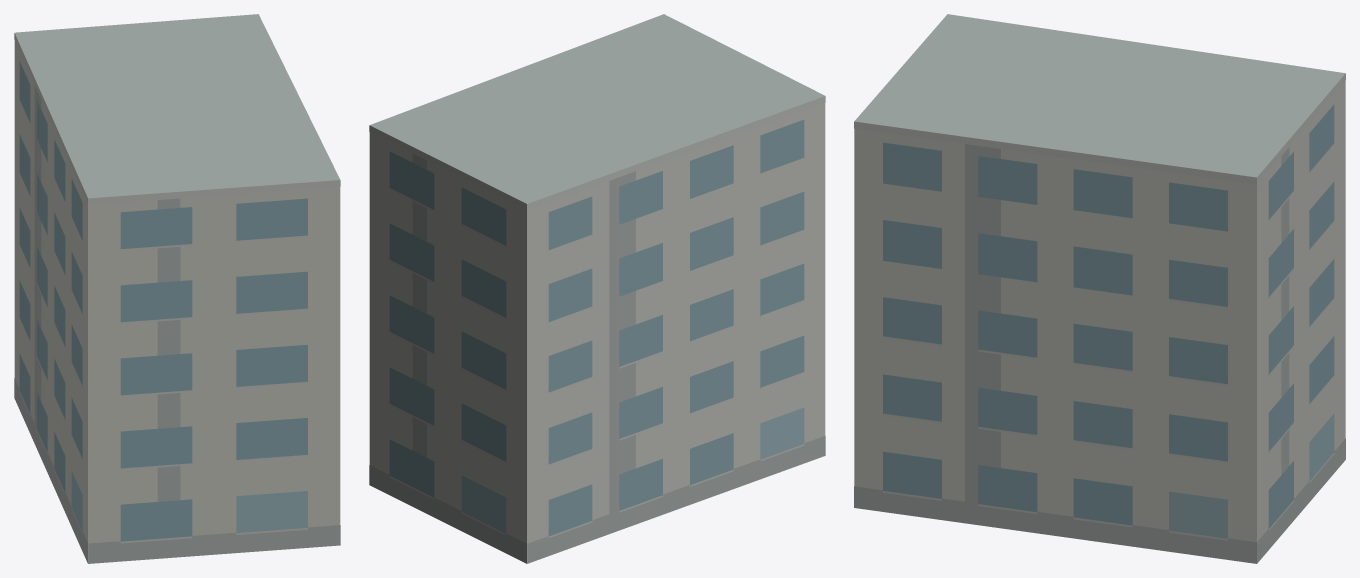
The model's file is survey-upis-32994202.glb.
3 views of the same model, side by side, from view 1: azimuth 30°, elevation 25°; view 2: azimuth 150°, elevation 25°; view 3: azimuth 270°, elevation 25° (orthographic). The views are drawn at different scales.
Visible parts, largest first — view 1: survey-upis-32994202.tmp; view 2: survey-upis-32994202.tmp; view 3: survey-upis-32994202.tmp.
Part boxes in pixels (<box>): survey-upis-32994202.tmp: <box>14,14,340,563</box>; survey-upis-32994202.tmp: <box>369,14,825,563</box>; survey-upis-32994202.tmp: <box>854,14,1345,563</box>.
Bounding box in the file's own units: 11.99 × 13.2 × 15.23.
